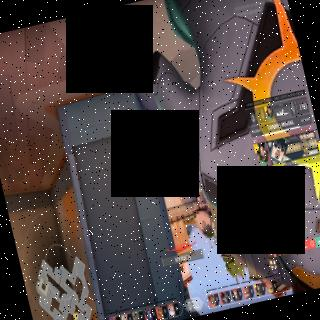ENEMY-BODY: (155, 140, 169, 172)
